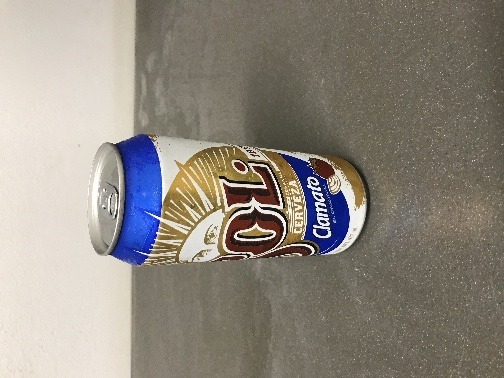SCL: (64, 98, 265, 191)
